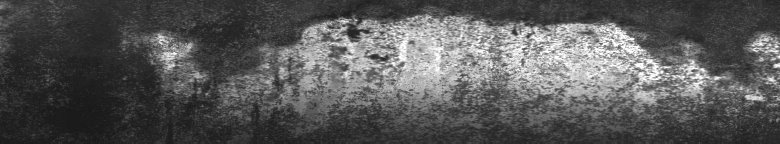kb: (120, 4, 776, 131)
